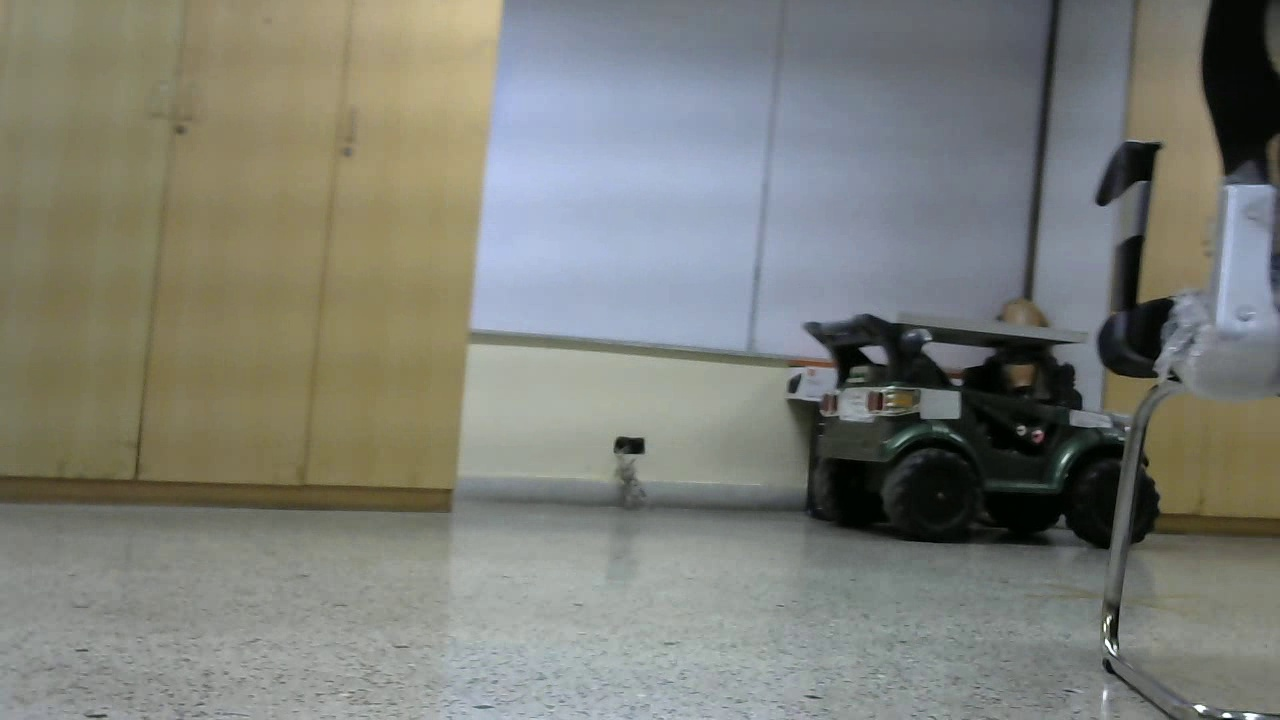chair: (562, 94, 824, 578)
